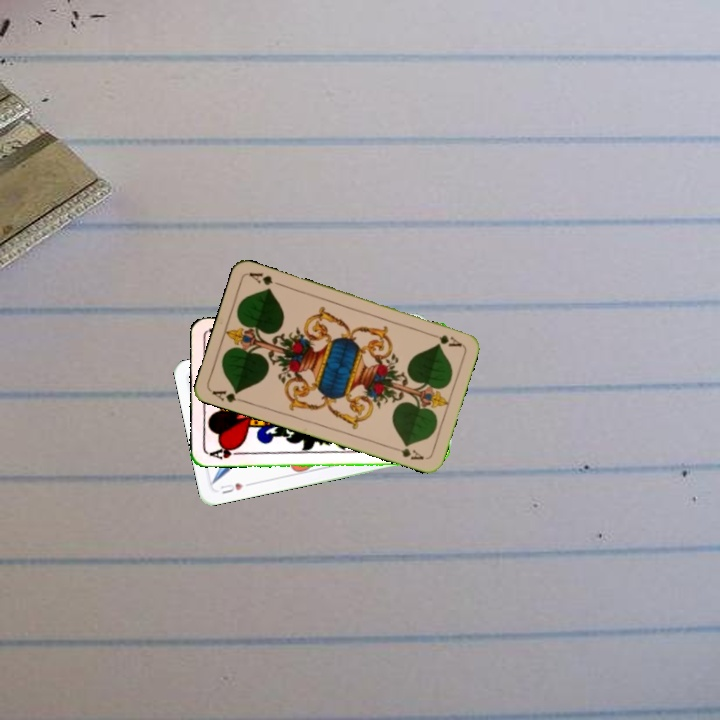GA: (425, 329, 464, 349), (208, 386, 248, 405)
HA: (204, 442, 245, 462)
HU: (216, 479, 253, 497)
